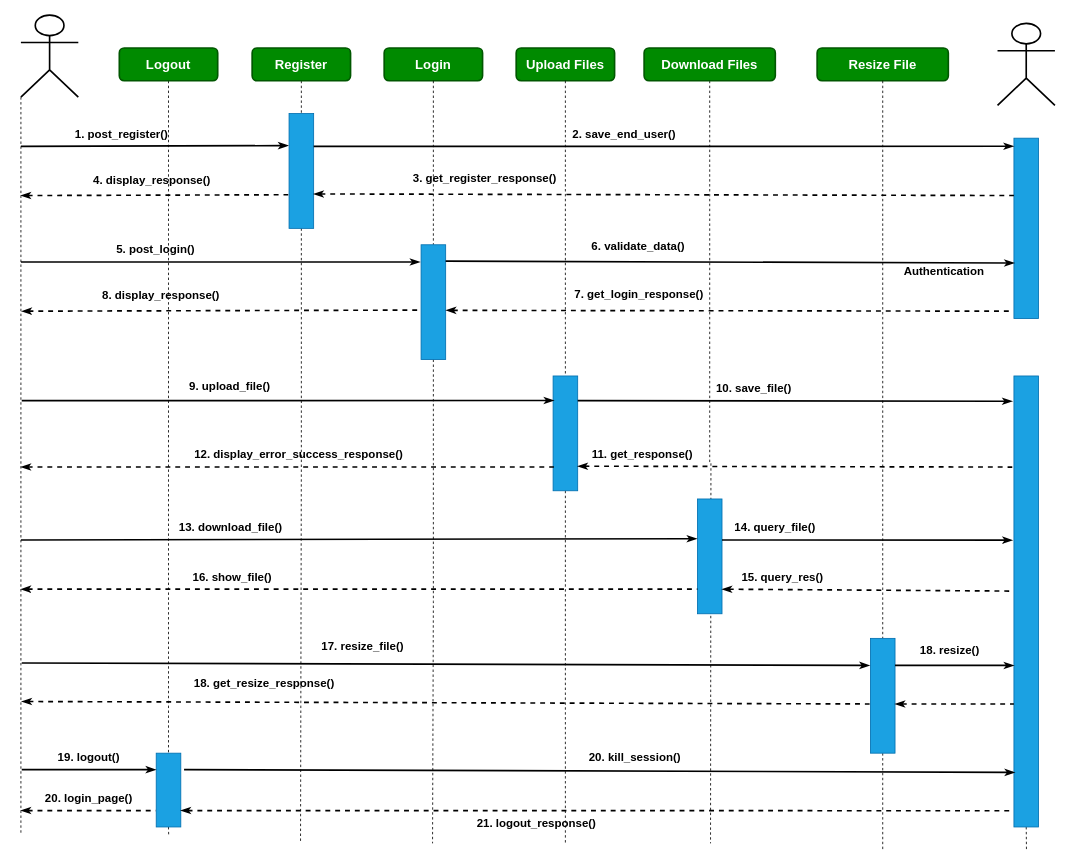
Image size: 1069x867. Some labels were removed from this diagram. The centre of each missing label's shape, as x and y in pixels:
"Database" belongs at pixel 1025 64.
"End User" belongs at pixel 49 56.
